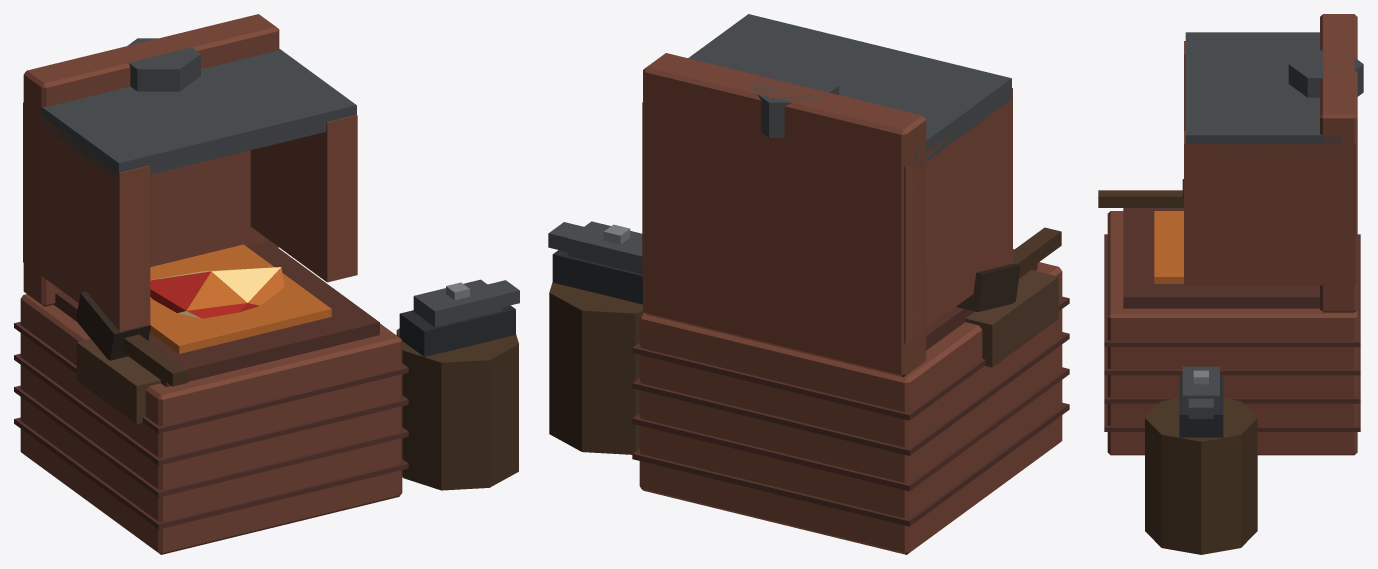
Rendered from piece_forge.fbx.
3 renders of one model, left to right at view 1: azimuth 30°, elevation 25°; view 2: azimuth 150°, elevation 25°; view 3: azimuth 270°, elevation 25°, orthographic. The views are drawn at different scales.
Visible parts, largest first — view 1: piece_forge; view 2: piece_forge; view 3: piece_forge.
Part boxes in pixels (x1,y1,x2,y2): piece_forge: [14, 14, 519, 554]; piece_forge: [548, 14, 1069, 554]; piece_forge: [1098, 14, 1363, 554].
Size of the model in its own units: 1.36 by 1.3 by 0.85.
